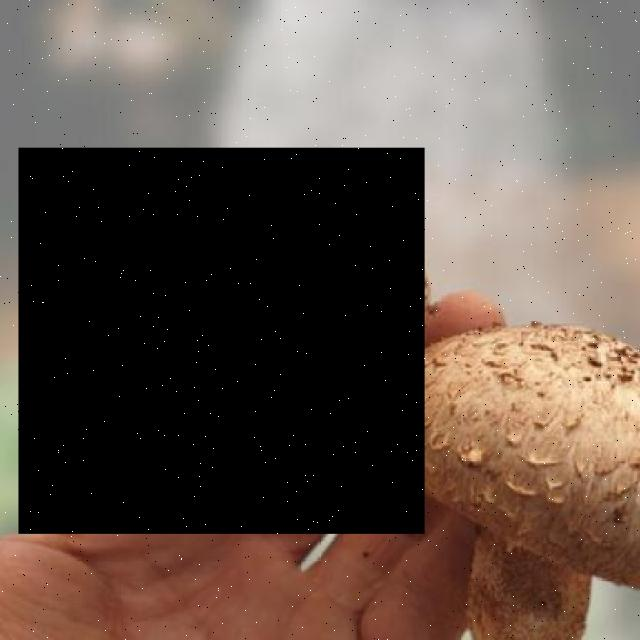Mushroom: (18, 148, 425, 534)
